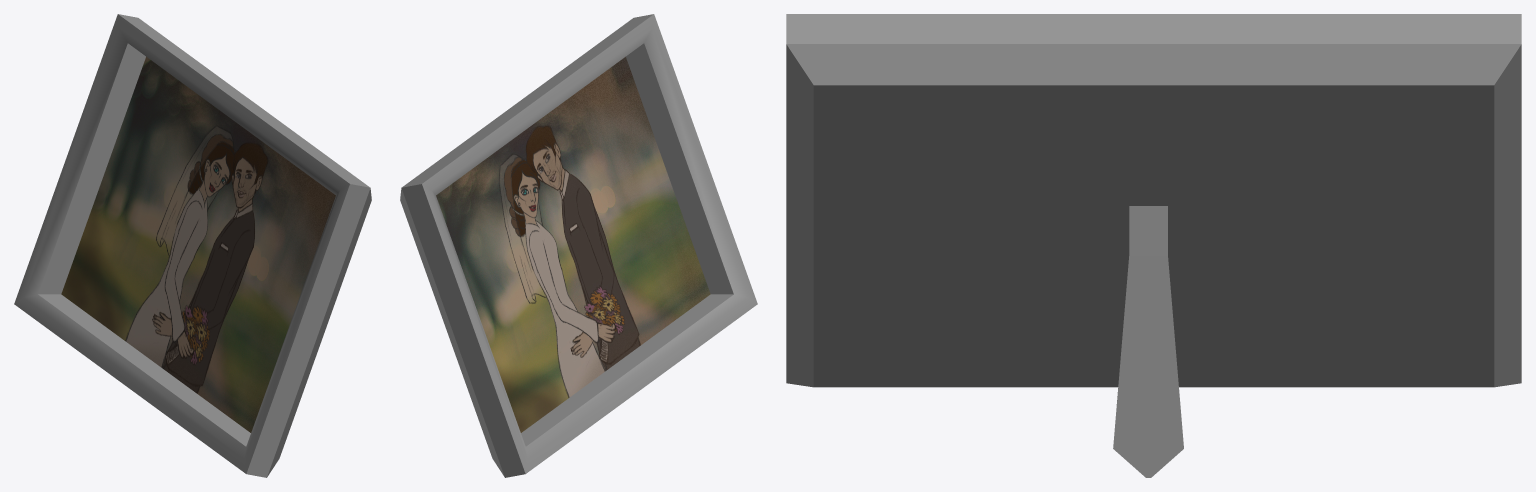
Rendered from PictureFrame_2.FBX.
The picture shows the model from 3 angles, left to right: view 1: azimuth 30°, elevation 25°; view 2: azimuth 150°, elevation 25°; view 3: azimuth 270°, elevation 25°; orthographic projection. The views are drawn at different scales.
Parts seen in each view (by area): view 1: picture003, frame2; view 2: picture003, frame2; view 3: frame2.
Boxes of the visible parts, <box> form: picture003: <box>61,56,335,432</box>; frame2: <box>14,14,371,477</box>; picture003: <box>436,56,710,432</box>; frame2: <box>400,14,757,477</box>; frame2: <box>786,14,1521,477</box>.
Bounding box in the file's own units: 2.78 × 5.45 × 8.21.
